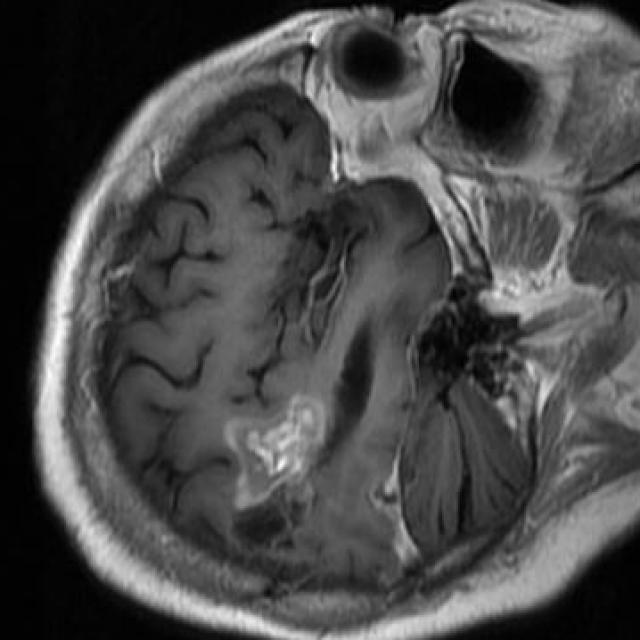glioma: (225, 319, 374, 547)
